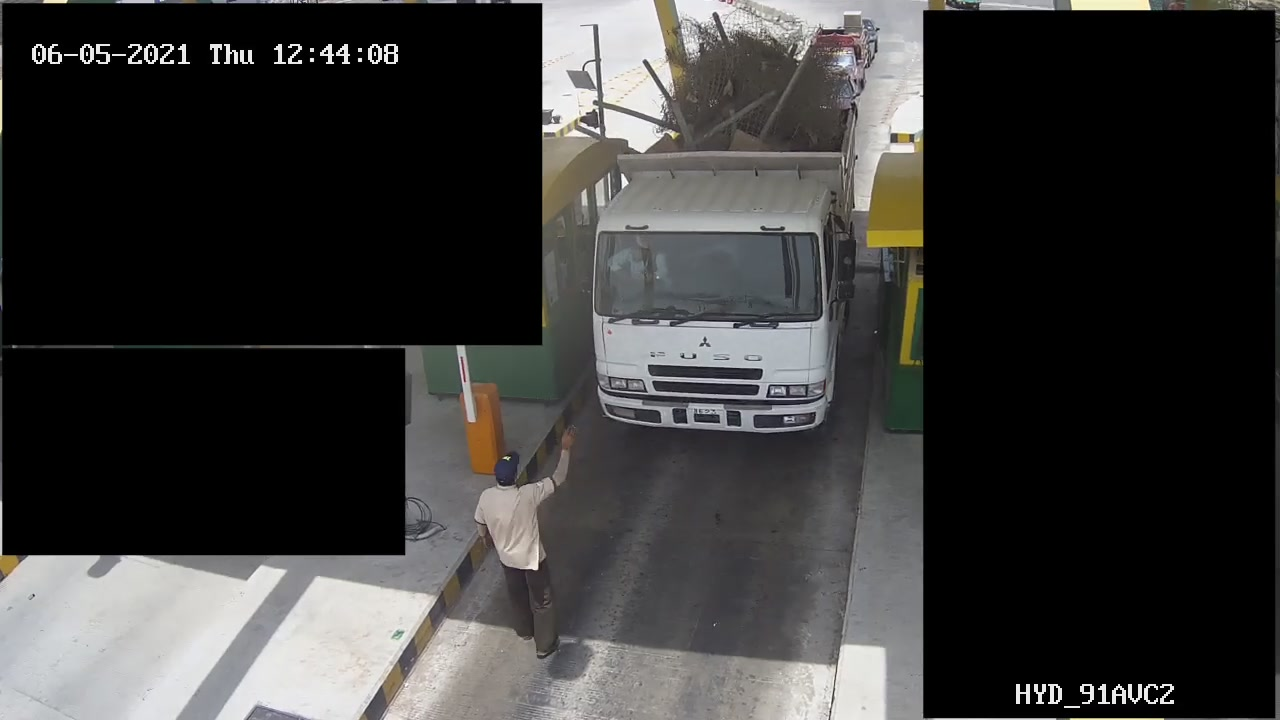F5: (581, 23, 871, 448)
